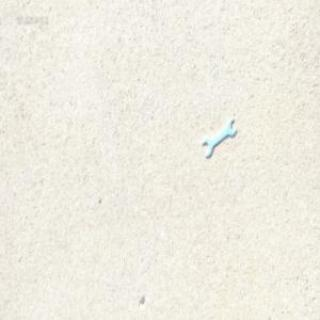Wrenchtrack_idkeyframe: (202, 119, 235, 157)
